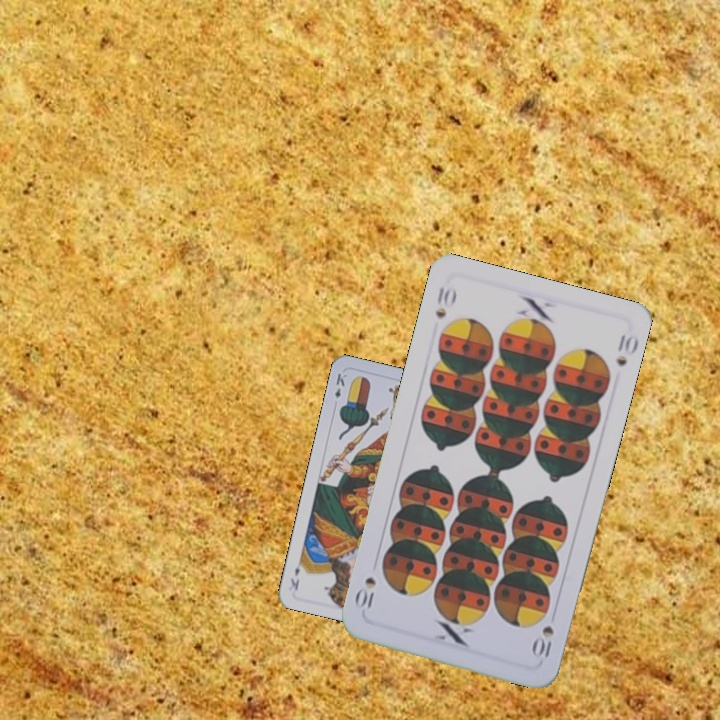EK: (331, 369, 350, 401)
S10: (528, 621, 557, 661), (431, 283, 459, 321)
